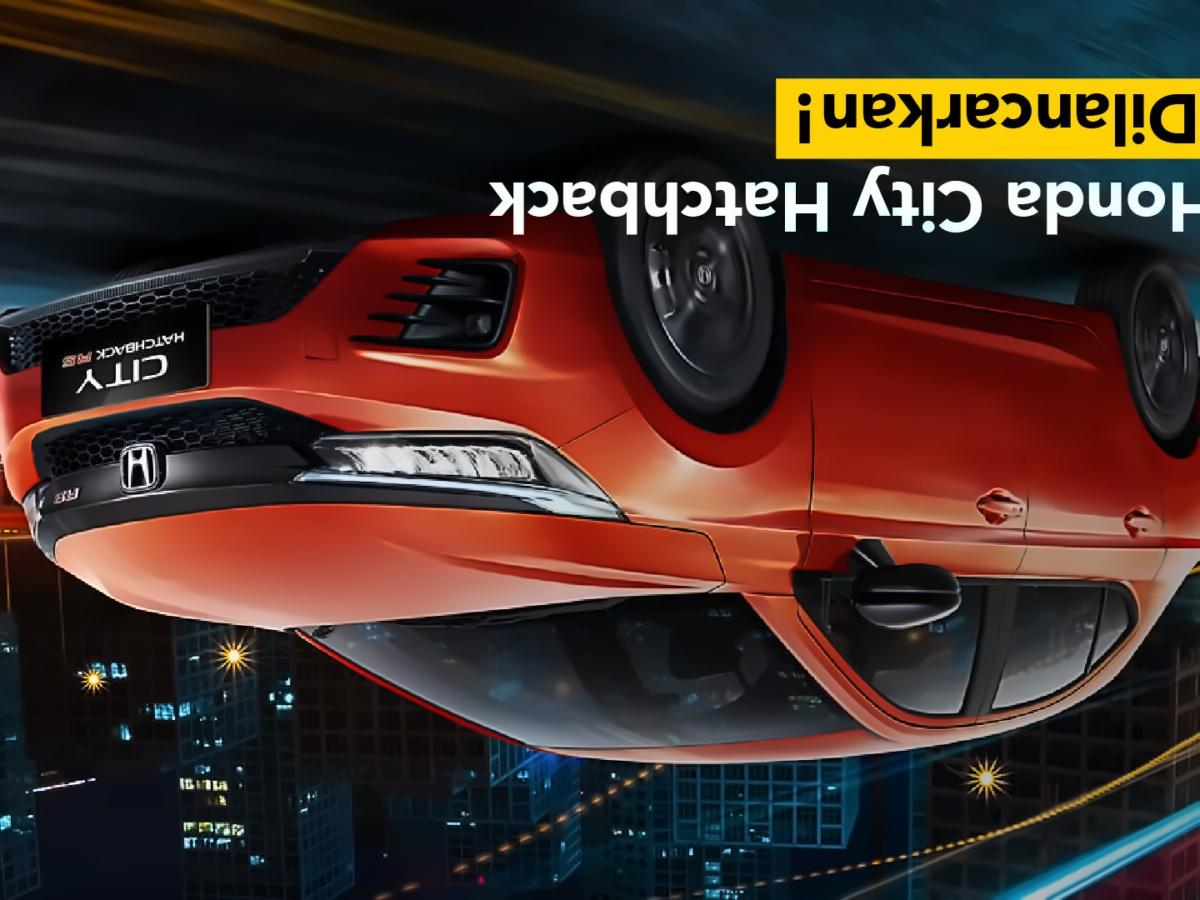Car hood: (45, 499, 733, 653)
Driver-s door - -F-R-: (787, 222, 1051, 740)
Fender - -F-R-: (550, 239, 816, 601)
Fender - -R-R-: (1116, 372, 1200, 615)
Front bumper: (0, 199, 647, 457)
Headlight - -R-: (283, 427, 632, 530)
Passenger-s door - -R-R-: (972, 270, 1175, 740)
Side bumper - -R-: (779, 236, 1141, 381)
Side mirror - -R-: (847, 553, 968, 638)
